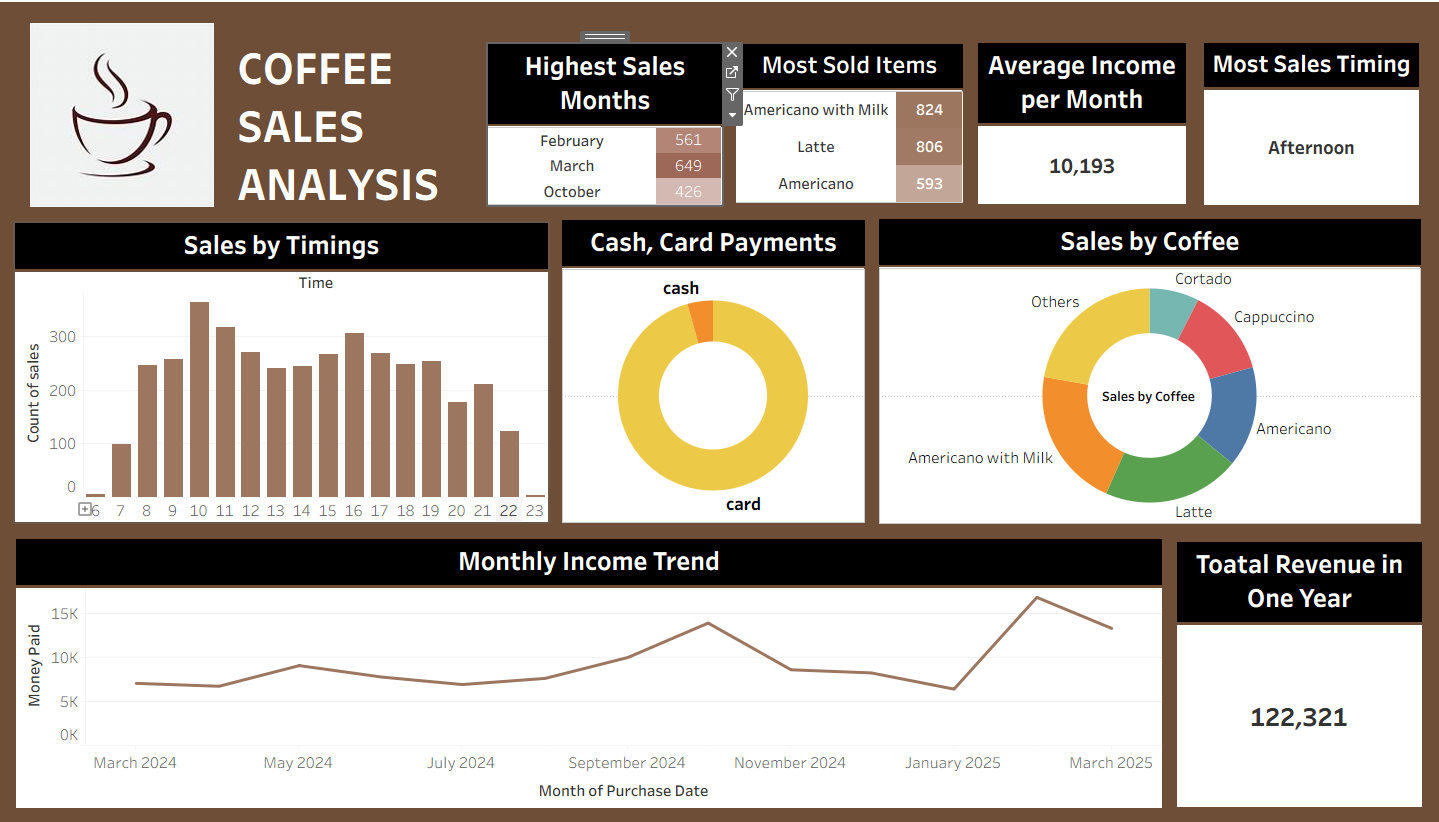

This screenshot's page, from the dashboard's own definition file:
{"tool":"tableau","page":{"name":"Dashboard 2","canvas":[1628,851],"ordinal":0},"visuals":[{"type":"image","param":"C:/Projects/Coffee Sales/background.jpg","box":[8,8,1452,835]},{"type":"legend","title":"Sheet 1","param":"[federated.0yhsaby1c1z05c118u8qh147s2o0].[none:cash_type (Custom SQL Query):nk]","box":[1460,8,160,72]},{"type":"image","param":"C:/Projects/Coffee Sales/logo.jpeg","box":[29,33,217,184]},{"type":"text","box":[249,47,429,175]},{"type":"worksheet","title":"Sheet 4","mark":"Automatic","box":[993,53,208,161]},{"type":"worksheet","title":"Sheet 5","mark":"Automatic","box":[1219,53,215,162]},{"type":"worksheet","title":"Sheet 2","mark":"Square","rows":["high_sales_month"],"box":[503,54,234,161]},{"type":"worksheet","title":"Sheet 3","mark":"Square","rows":["item_name"],"box":[751,54,227,159]},{"type":"legend","title":"Sheet 1","param":"[federated.0yhsaby1c1z05c118u8qh147s2o0].[sum:total_sales:qk]","box":[1460,80,160,51]},{"type":"legend","title":"Sheet 7","param":"[federated.0yhsaby1c1z05c118u8qh147s2o0].[sum:total_sales (Custom SQL Query5):qk","box":[1460,131,160,51]},{"type":"legend","title":"Sheet 7","param":"[federated.0yhsaby1c1z05c118u8qh147s2o0].[none:coffee_label:nk]","box":[1460,182,160,156]},{"type":"worksheet","title":"Sheet 7","mark":"Pie","rows":["Calculation_1603281492320288773","Calculation_1603281492320317447"],"box":[894,229,542,305]},{"type":"worksheet","title":"Sheet 1","mark":"Pie","rows":["Calculation_1603281492325638154","Calculation_1603281492325662732"],"box":[577,230,303,303]},{"type":"worksheet","title":"Sheet 9","mark":"Bar","rows":["sales_85E629E3FEB1495D84E1CE65650AA342"],"cols":["time"],"box":[30,233,533,299]},{"type":"worksheet","title":"Sheet 6","mark":"Line","rows":["money_paid"],"cols":["purchase_date"],"box":[31,549,1146,269]},{"type":"worksheet","title":"Sheet 8","mark":"Automatic","box":[1192,552,245,265]}]}

Visuals, with their boxes on the page's 1628x851 design canvas (x1, y1, x2, y2). These are canvas units, not pixel positions in the 1439x822 screenshot, which may show the page scaled, cropped or inside an application window:
image: region(8, 8, 1460, 843)
"Sheet 1" legend: region(1460, 8, 1620, 80)
image: region(29, 33, 246, 217)
text: region(249, 47, 678, 222)
"Sheet 4" worksheet: region(993, 53, 1201, 214)
"Sheet 5" worksheet: region(1219, 53, 1434, 215)
"Sheet 2" worksheet (Square marks): region(503, 54, 737, 215)
"Sheet 3" worksheet (Square marks): region(751, 54, 978, 213)
"Sheet 1" legend: region(1460, 80, 1620, 131)
"Sheet 7" legend: region(1460, 131, 1620, 182)
"Sheet 7" legend: region(1460, 182, 1620, 338)
"Sheet 7" worksheet (Pie marks): region(894, 229, 1436, 534)
"Sheet 1" worksheet (Pie marks): region(577, 230, 880, 533)
"Sheet 9" worksheet (Bar marks): region(30, 233, 563, 532)
"Sheet 6" worksheet (Line marks): region(31, 549, 1177, 818)
"Sheet 8" worksheet: region(1192, 552, 1437, 817)
